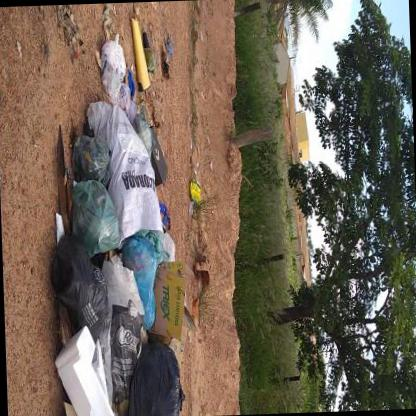lixo: (49, 39, 188, 415)
